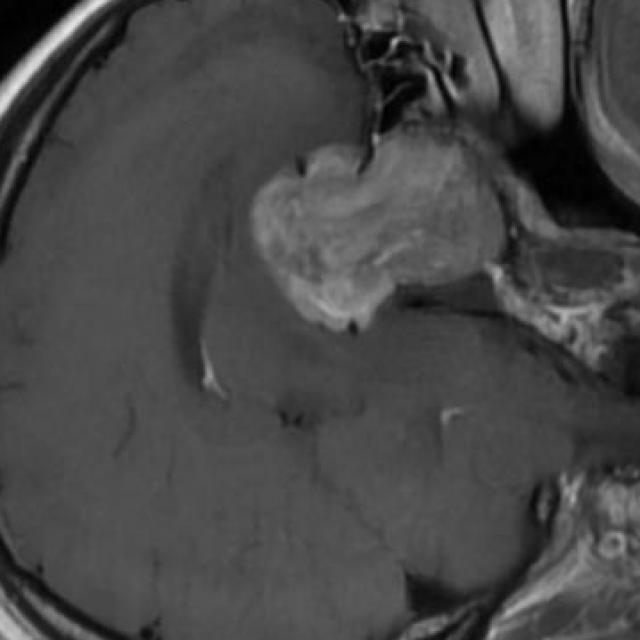pituitary: (251, 135, 503, 333)
